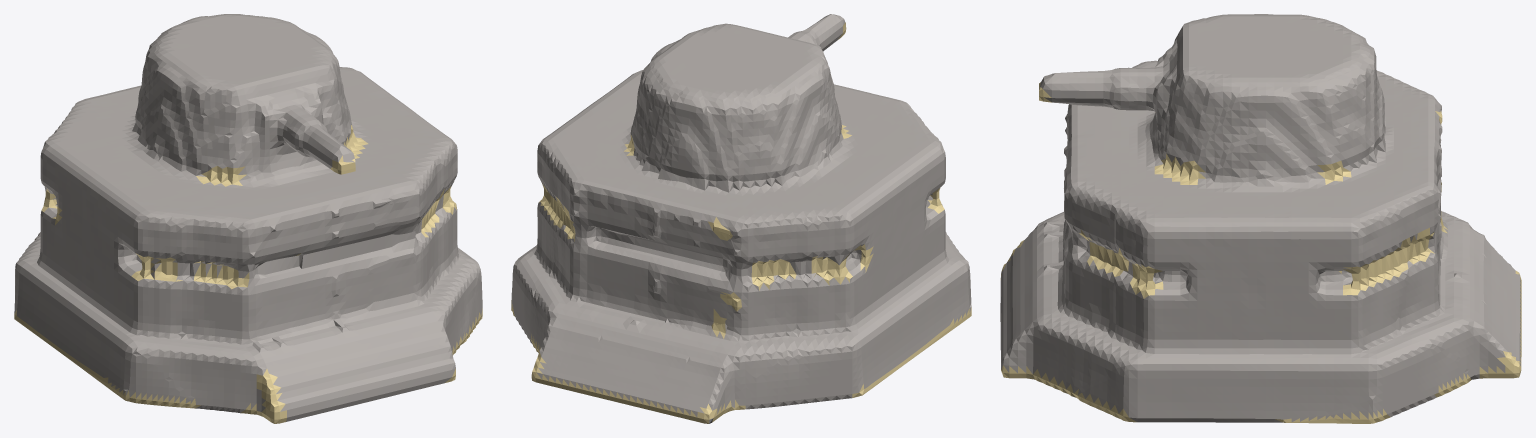
File: bld_gun_turret.glb
The picture shows the model from 3 angles, left to right: view 1: azimuth 30°, elevation 25°; view 2: azimuth 150°, elevation 25°; view 3: azimuth 270°, elevation 25°; orthographic projection. The views are drawn at different scales.
Visible parts, largest first — view 1: Mesh_0.006; view 2: Mesh_0.006; view 3: Mesh_0.006.
Part boxes in pixels (bbox=[...]): Mesh_0.006: bbox=[14, 14, 482, 423]; Mesh_0.006: bbox=[511, 14, 971, 423]; Mesh_0.006: bbox=[1000, 14, 1521, 423].
Bounding box in the file's own units: 1.71 × 1.21 × 2.
